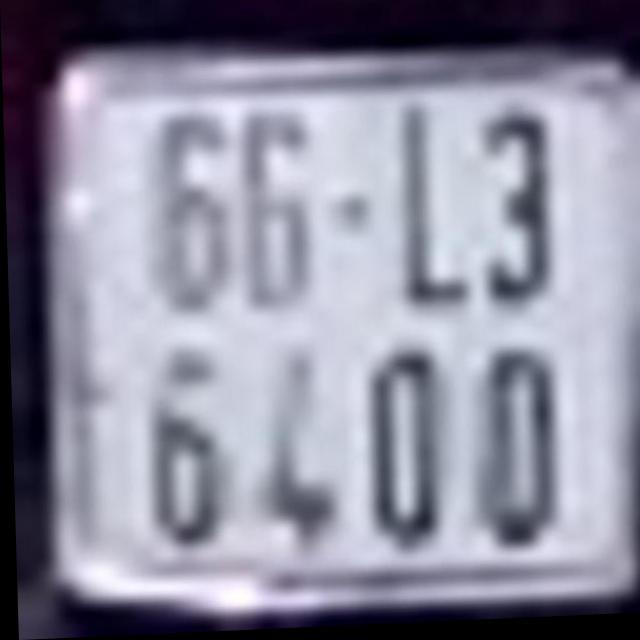0: (360, 333, 448, 555), (473, 347, 556, 549)
3: (471, 101, 555, 313)
4: (256, 333, 339, 557)
6: (234, 104, 315, 322), (152, 103, 229, 317), (147, 336, 220, 551)
L: (388, 104, 467, 307)
